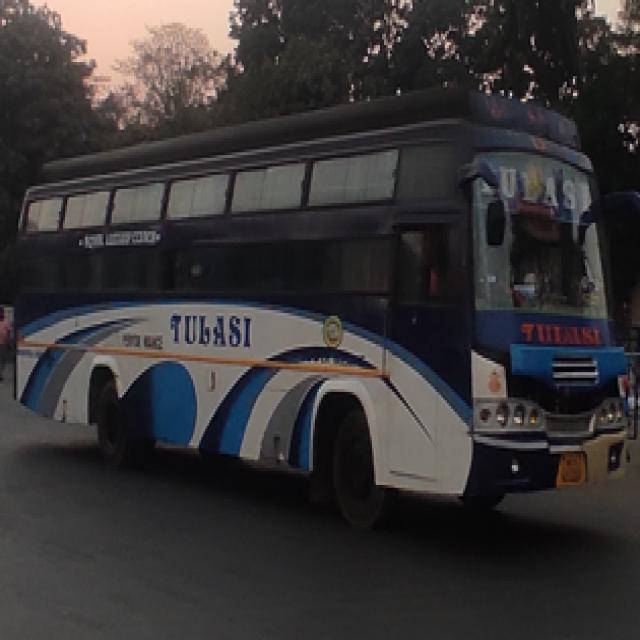bus: (10, 85, 632, 558)
